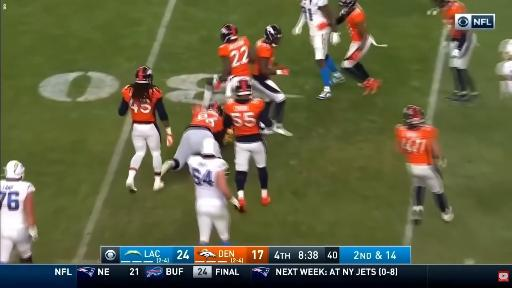Helmet: (403, 105, 425, 125), (264, 25, 282, 46), (201, 138, 220, 157), (4, 161, 24, 179), (235, 78, 252, 97), (136, 66, 153, 83), (221, 24, 237, 42), (338, 0, 357, 14), (499, 39, 511, 60), (208, 102, 223, 116), (436, 0, 453, 8)
Jersey: (187, 156, 228, 201), (395, 125, 438, 165), (0, 180, 35, 229), (225, 99, 264, 137), (122, 86, 162, 123), (218, 37, 250, 76), (299, 0, 329, 36), (443, 1, 466, 38), (190, 108, 223, 133), (253, 39, 274, 74), (346, 6, 365, 41), (496, 61, 511, 79)
Player: (119, 66, 173, 192), (395, 106, 453, 222), (224, 78, 271, 210), (187, 138, 239, 245), (292, 0, 344, 99), (162, 102, 223, 173), (253, 25, 292, 136), (203, 24, 254, 107), (336, 0, 381, 94), (440, 0, 478, 101), (0, 161, 37, 263), (496, 40, 511, 97), (427, 0, 442, 15)
